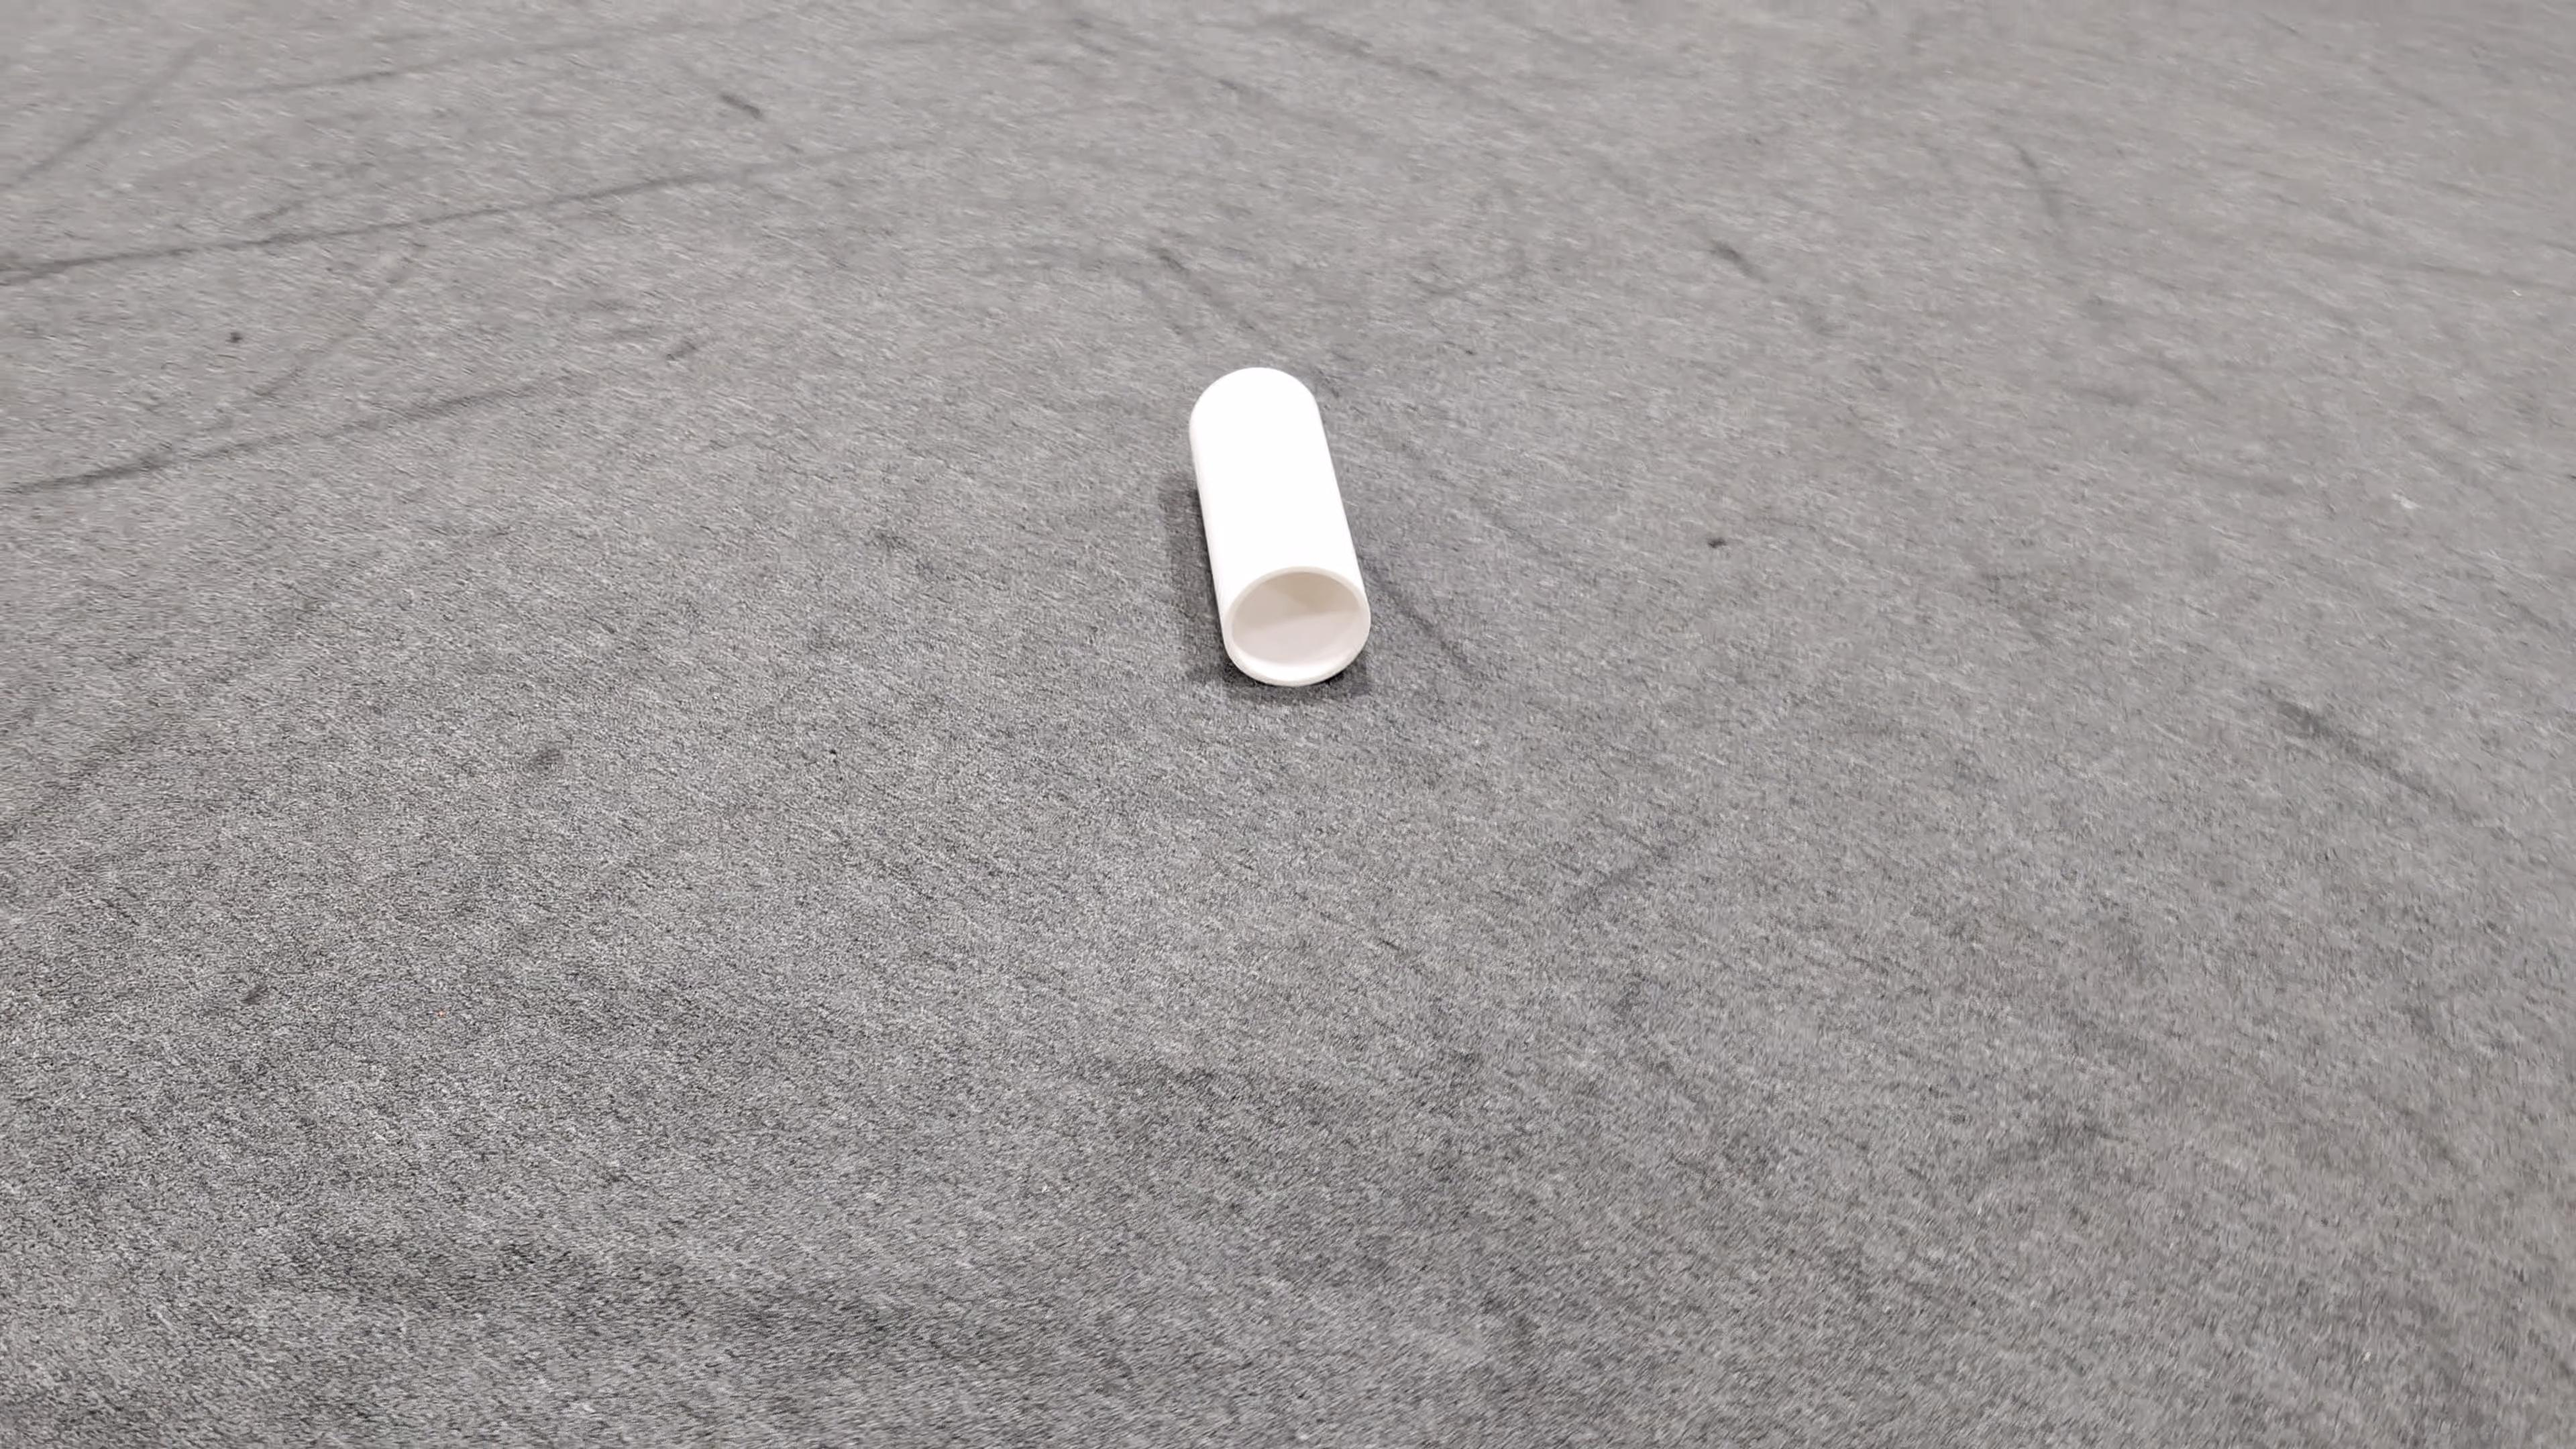coral: (1182, 361, 1375, 686)
